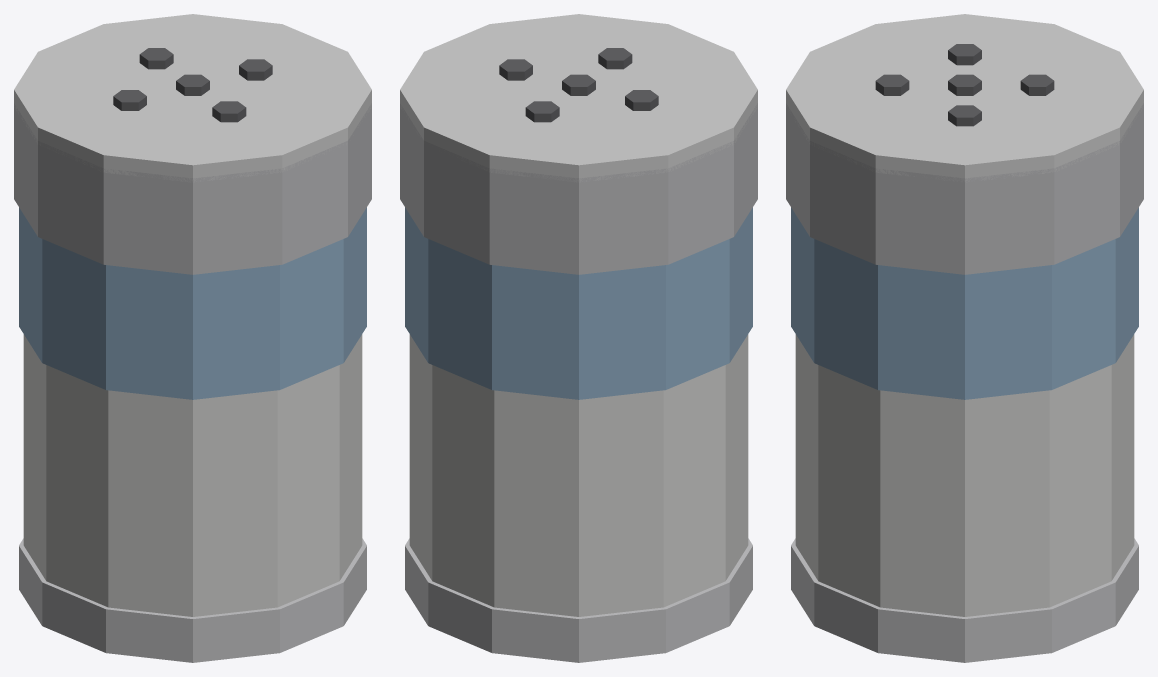
File: aces_saleiro.glb
3 renders of one model, left to right at view 1: azimuth 30°, elevation 25°; view 2: azimuth 150°, elevation 25°; view 3: azimuth 270°, elevation 25°, orthographic.
Visible parts, largest first — view 1: ACES_SALEIRO; view 2: ACES_SALEIRO; view 3: ACES_SALEIRO.
Boxes of the visible parts, x1,y1,x2,y2 form: ACES_SALEIRO: (14, 14, 371, 662); ACES_SALEIRO: (400, 14, 757, 662); ACES_SALEIRO: (786, 14, 1143, 662).
Size of the model in its own units: 0.074 by 0.116 by 0.074.
